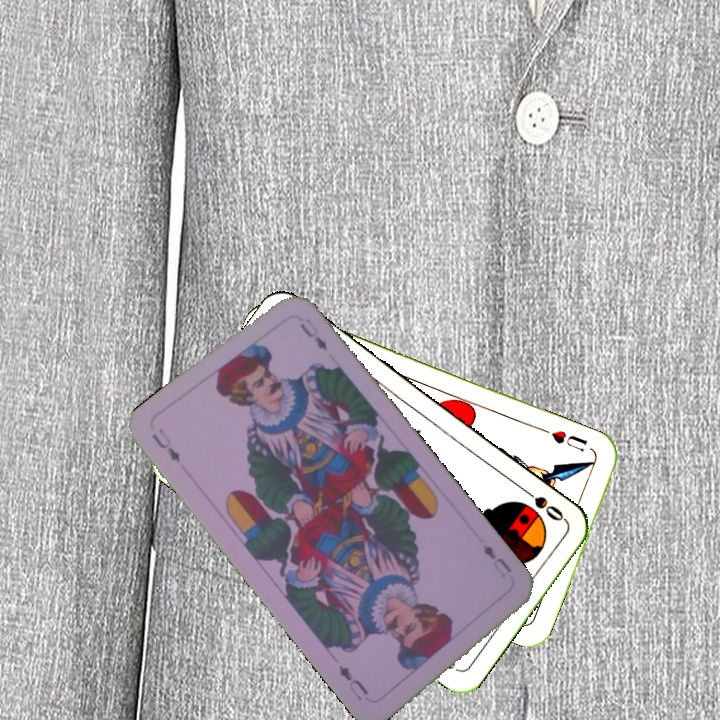EU: (478, 539, 514, 581), (147, 424, 183, 466)
HU: (547, 426, 590, 455)
SO: (516, 483, 568, 524)
